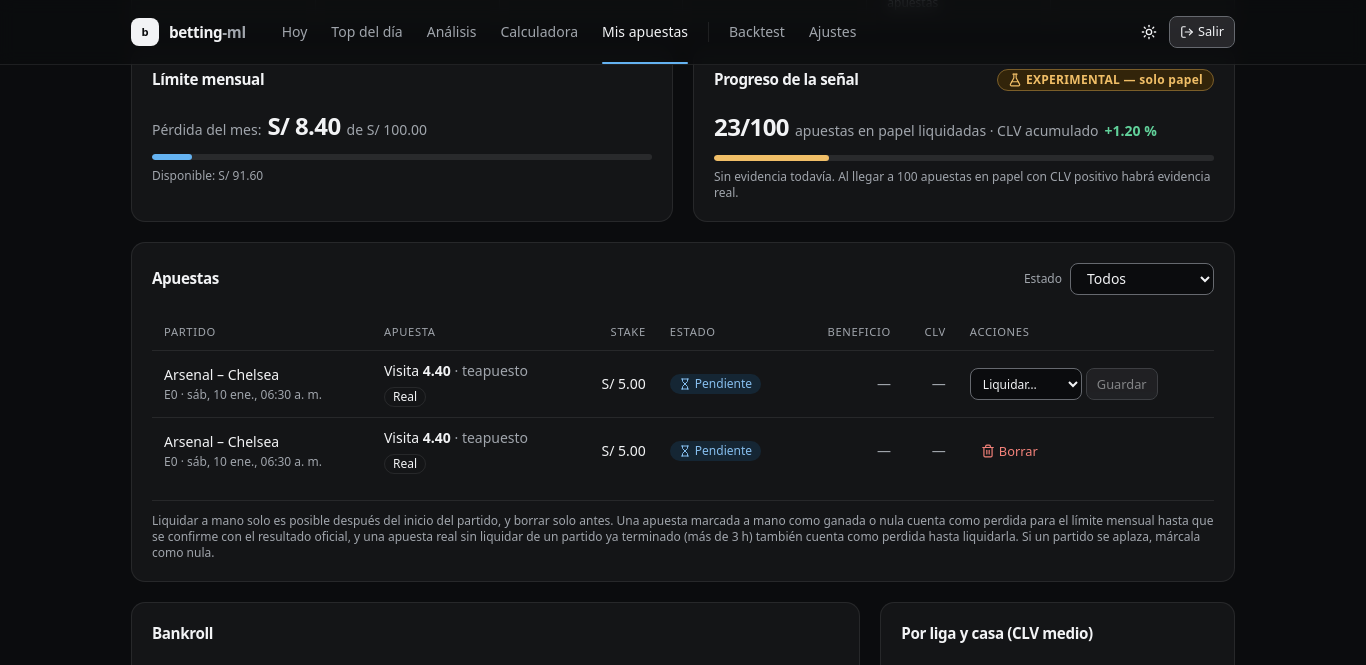
Test: API refusal when settling is shown
The width and height of the screenshot is (1366, 665).
(page scrolled)
Select "Perdida" in the dropdown named "Resultado de la apuesta 1" at (1026, 384), box [970,368,1082,400]
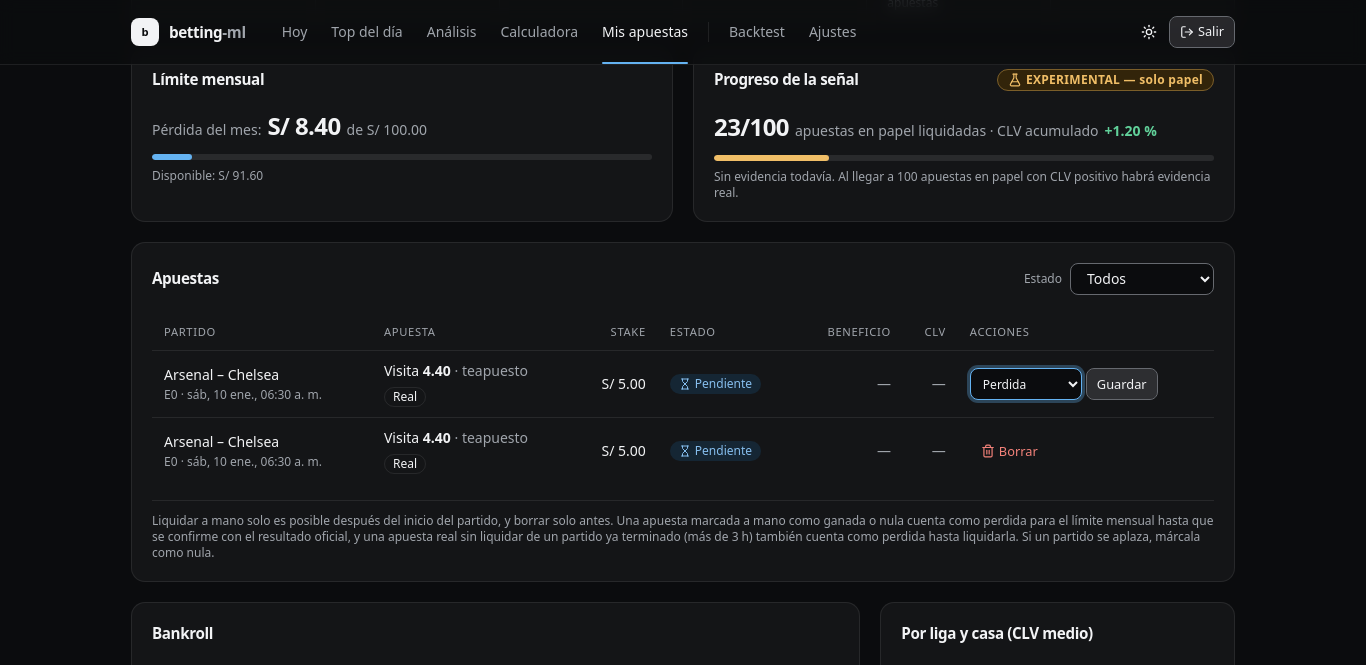
Click the button "Guardar" at (1122, 384), box [1086,368,1158,400]
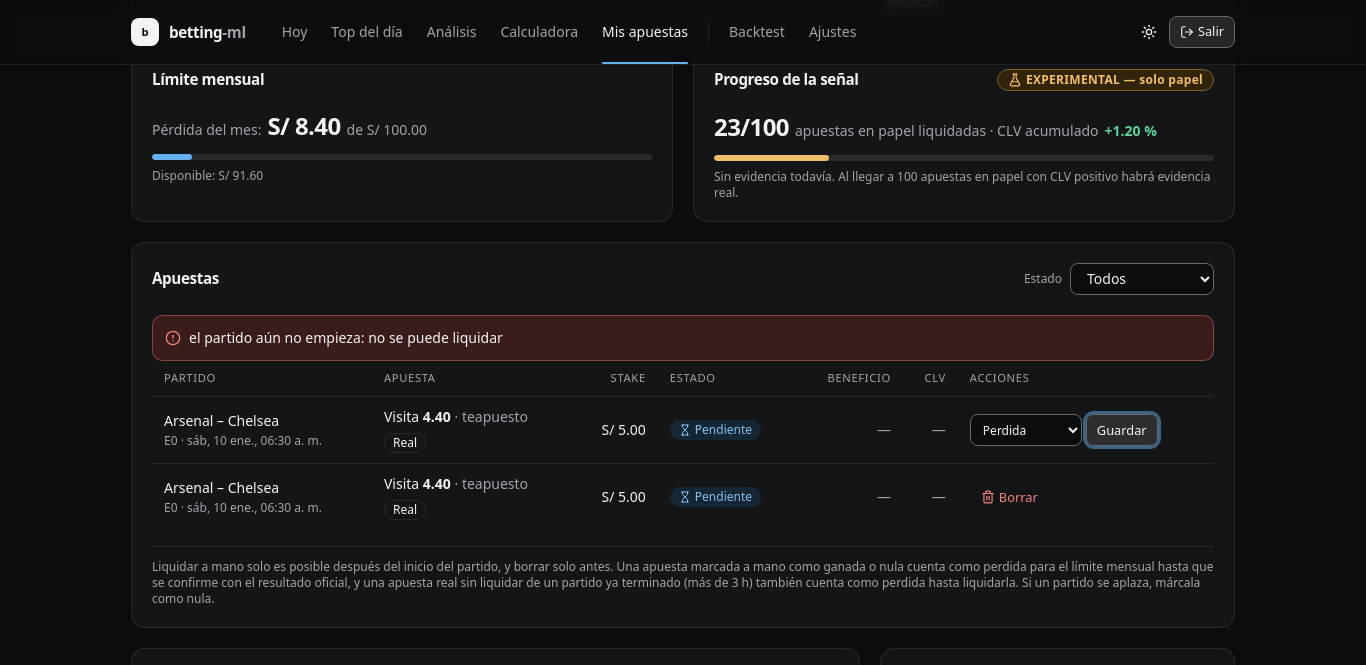
Check: the message shows "el partido aún no empieza", box [189,328,503,346]
